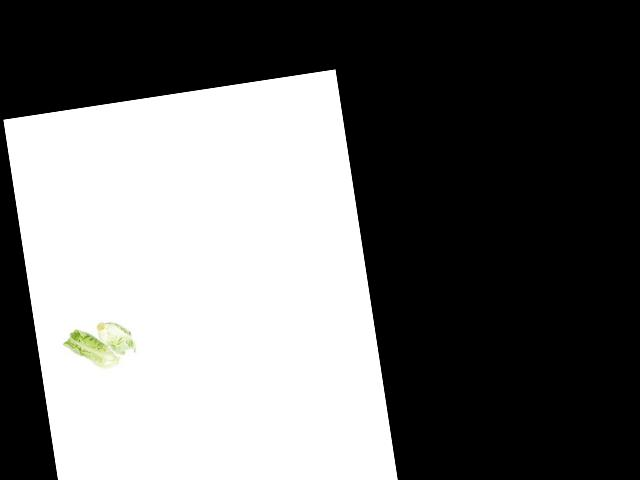lettuce: (45, 290, 147, 412)
